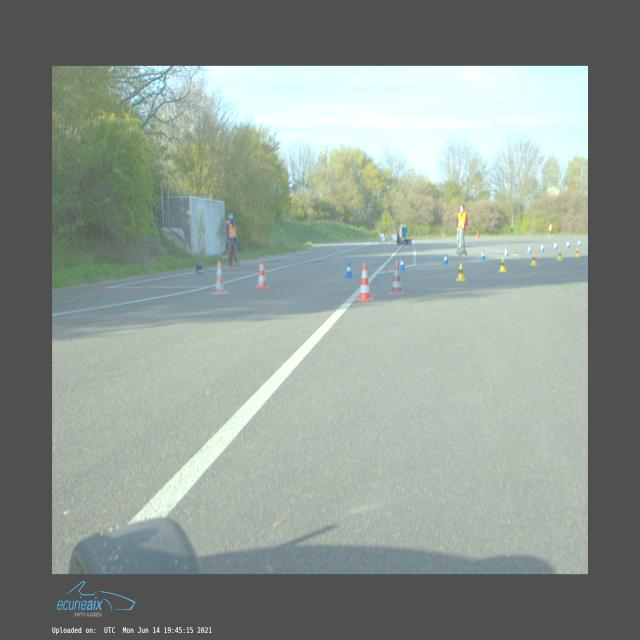blue_cone: (345, 264, 353, 278), (399, 258, 405, 270), (443, 254, 449, 264), (480, 250, 486, 260), (504, 248, 508, 256), (540, 244, 544, 252), (554, 242, 558, 250), (566, 240, 570, 248), (527, 246, 531, 253), (578, 240, 582, 246)
large_orange_cone: (355, 263, 375, 301), (389, 260, 405, 294), (212, 262, 228, 294), (254, 258, 270, 288)
yellow_cone: (456, 263, 466, 281), (498, 258, 506, 272), (530, 253, 538, 266), (556, 250, 562, 261), (574, 248, 580, 258)
